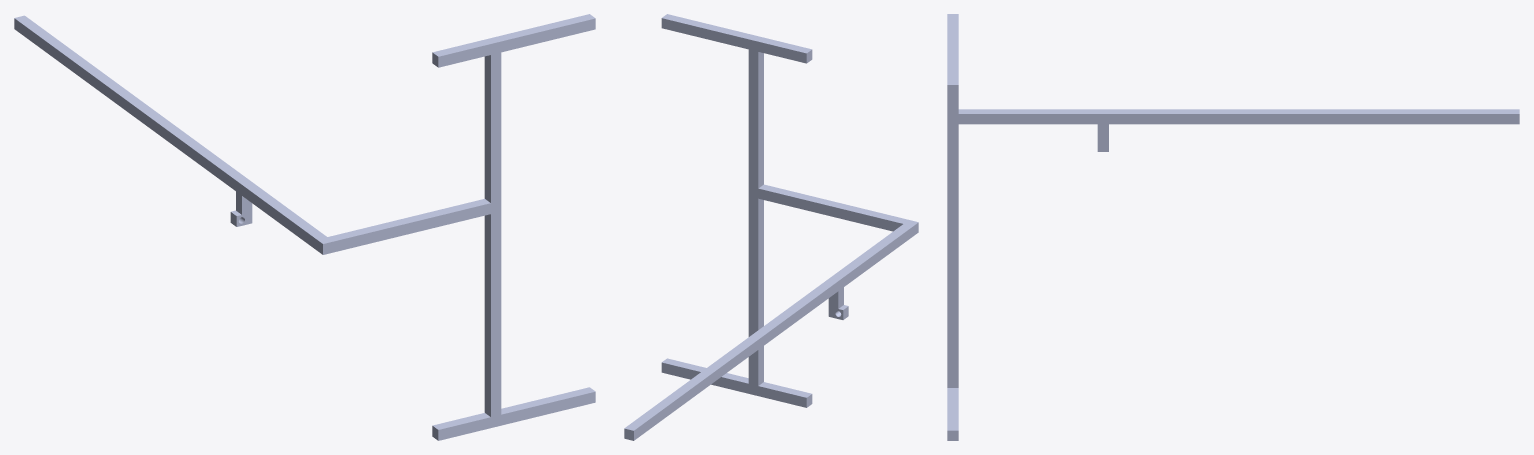
File: body1_visual.obj
3 views of the same model, side by side, from view 1: azimuth 30°, elevation 25°; view 2: azimuth 150°, elevation 25°; view 3: azimuth 270°, elevation 25° (orthographic). The views are drawn at different scales.
Visible parts, largest first — view 1: Body1; view 2: Body1; view 3: Body1.
Part boxes in pixels (x1,y1,x2,y2): Body1: (14, 14, 595, 440); Body1: (624, 14, 918, 440); Body1: (947, 14, 1519, 440).
Bounding box in the file's own units: 26.5 × 35 × 51.
